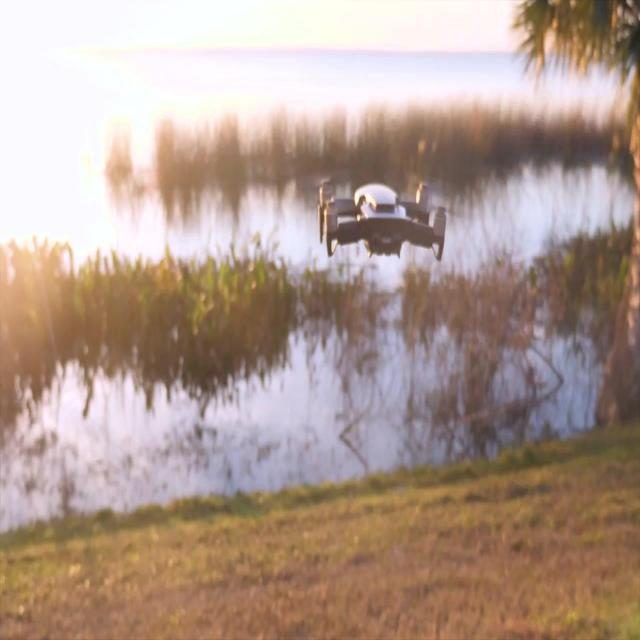UAV: (318, 182, 447, 262)
